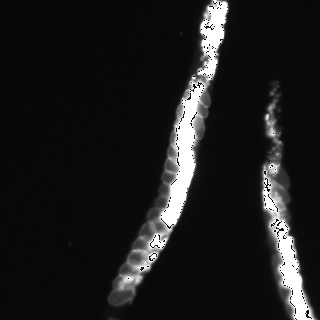embryo: (263, 191, 289, 224), (262, 176, 289, 204), (107, 285, 135, 306), (113, 274, 142, 290), (131, 233, 152, 254), (272, 254, 287, 282), (273, 165, 289, 190), (126, 249, 149, 266), (192, 112, 205, 140), (139, 220, 156, 240), (118, 261, 140, 276), (267, 233, 283, 252), (154, 194, 169, 212), (145, 206, 163, 220), (263, 210, 276, 228), (153, 221, 169, 235), (278, 285, 292, 301), (164, 158, 178, 173), (159, 180, 170, 199), (167, 142, 177, 162), (200, 88, 210, 108), (175, 102, 184, 124), (161, 171, 176, 184), (196, 102, 208, 118), (169, 129, 175, 144)
